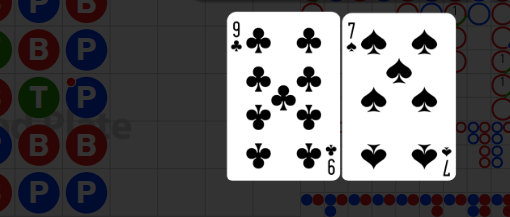7S: (439, 144, 452, 177)
